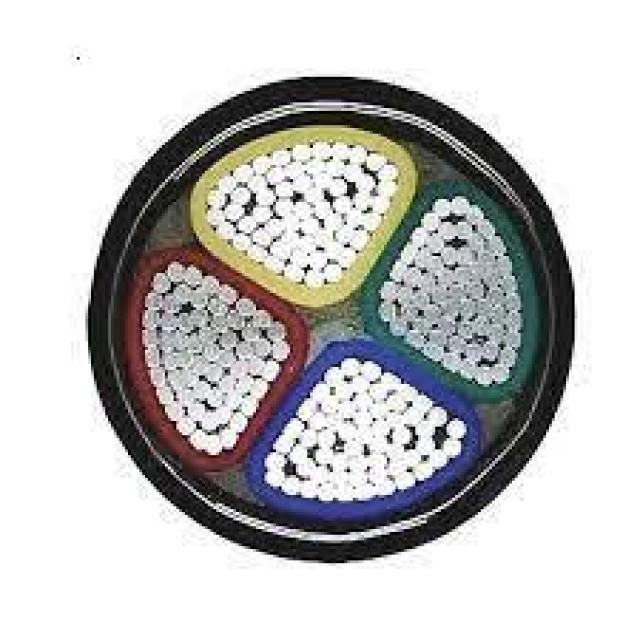wire: (323, 242, 351, 264), (268, 243, 288, 272), (441, 416, 466, 439), (425, 407, 445, 435), (294, 396, 318, 419), (361, 361, 384, 384), (270, 340, 293, 363), (200, 357, 220, 383), (263, 451, 289, 471), (267, 164, 293, 184), (448, 194, 471, 216), (248, 200, 273, 220), (333, 474, 353, 499), (180, 264, 200, 288), (263, 358, 283, 382), (388, 424, 411, 444), (340, 356, 363, 376), (162, 400, 185, 420), (371, 436, 394, 456), (391, 304, 408, 330), (144, 346, 164, 368), (346, 142, 368, 162), (203, 434, 220, 459), (269, 145, 294, 162), (476, 364, 494, 387), (402, 405, 420, 428), (328, 178, 352, 195), (144, 367, 164, 387), (218, 327, 238, 347), (214, 219, 234, 239), (502, 292, 522, 312), (378, 278, 398, 298), (316, 430, 336, 450), (368, 400, 388, 420), (342, 162, 362, 182), (216, 374, 236, 394), (303, 269, 323, 289), (284, 445, 304, 465), (430, 196, 450, 216), (290, 142, 310, 162), (142, 290, 162, 310), (347, 451, 367, 471), (334, 194, 354, 214), (172, 312, 192, 332), (250, 378, 270, 398), (239, 392, 259, 412), (250, 155, 270, 175), (411, 286, 431, 306), (484, 234, 504, 254), (225, 202, 248, 219), (293, 175, 316, 192), (150, 270, 167, 293), (374, 178, 397, 195), (461, 280, 484, 297), (330, 381, 353, 398), (168, 367, 185, 390), (204, 188, 226, 205), (280, 474, 297, 496), (234, 162, 252, 182), (253, 308, 273, 326), (372, 195, 390, 215), (500, 347, 518, 367), (297, 426, 317, 444), (430, 284, 450, 302), (406, 334, 426, 352), (169, 348, 189, 366), (290, 200, 310, 218), (310, 142, 330, 160), (430, 452, 450, 470), (414, 462, 434, 480), (200, 410, 218, 430), (483, 341, 498, 364), (351, 484, 371, 501), (233, 342, 250, 362), (323, 264, 340, 284), (387, 455, 404, 475), (266, 219, 286, 236), (273, 198, 290, 218), (316, 482, 333, 502), (420, 303, 440, 320), (233, 185, 253, 202), (230, 414, 250, 431), (351, 189, 371, 206), (330, 451, 347, 471), (327, 213, 347, 230), (408, 226, 425, 246), (387, 391, 404, 411), (307, 158, 327, 175), (474, 219, 494, 236), (195, 380, 212, 400), (200, 273, 220, 290), (312, 199, 332, 216), (222, 283, 239, 303), (491, 322, 505, 346), (274, 434, 298, 448), (452, 220, 470, 238), (456, 324, 474, 342), (298, 234, 316, 252), (441, 243, 455, 266), (332, 142, 348, 162), (234, 298, 254, 314), (496, 253, 514, 270), (274, 182, 292, 199), (441, 352, 458, 370), (233, 234, 250, 252), (188, 398, 205, 416), (456, 296, 474, 313), (404, 451, 421, 468), (310, 464, 327, 481), (360, 213, 377, 230), (502, 273, 519, 290), (337, 419, 354, 436), (316, 229, 333, 246), (370, 464, 387, 481), (202, 344, 219, 361), (337, 401, 354, 418), (354, 421, 371, 438), (170, 330, 187, 347), (424, 344, 441, 361), (374, 419, 391, 436), (327, 160, 344, 177), (389, 263, 406, 280), (452, 268, 470, 284), (142, 312, 160, 328), (322, 392, 338, 410), (378, 370, 398, 384), (462, 236, 482, 250), (300, 478, 314, 498), (223, 312, 243, 326), (441, 218, 455, 238), (376, 303, 392, 320), (248, 243, 264, 260), (488, 288, 505, 304), (378, 167, 398, 180), (240, 324, 258, 338), (481, 254, 495, 272), (506, 312, 524, 326), (415, 246, 427, 266), (230, 360, 244, 377), (178, 387, 192, 404), (324, 411, 338, 428), (254, 340, 268, 357), (398, 283, 412, 300), (313, 174, 330, 188), (506, 330, 520, 347), (337, 228, 354, 242), (404, 268, 418, 284), (184, 332, 198, 348), (218, 406, 232, 422), (160, 310, 173, 327), (442, 322, 457, 336), (476, 323, 491, 337), (466, 343, 478, 360), (199, 334, 216, 346), (368, 390, 386, 401), (172, 286, 186, 300), (209, 312, 223, 326), (298, 218, 312, 232), (282, 233, 298, 245), (354, 232, 371, 243), (478, 300, 492, 312), (350, 472, 364, 484), (294, 464, 306, 478), (492, 309, 506, 320), (161, 327, 172, 341), (435, 336, 447, 347), (476, 313, 488, 324), (475, 337, 486, 346), (492, 304, 506, 310)
